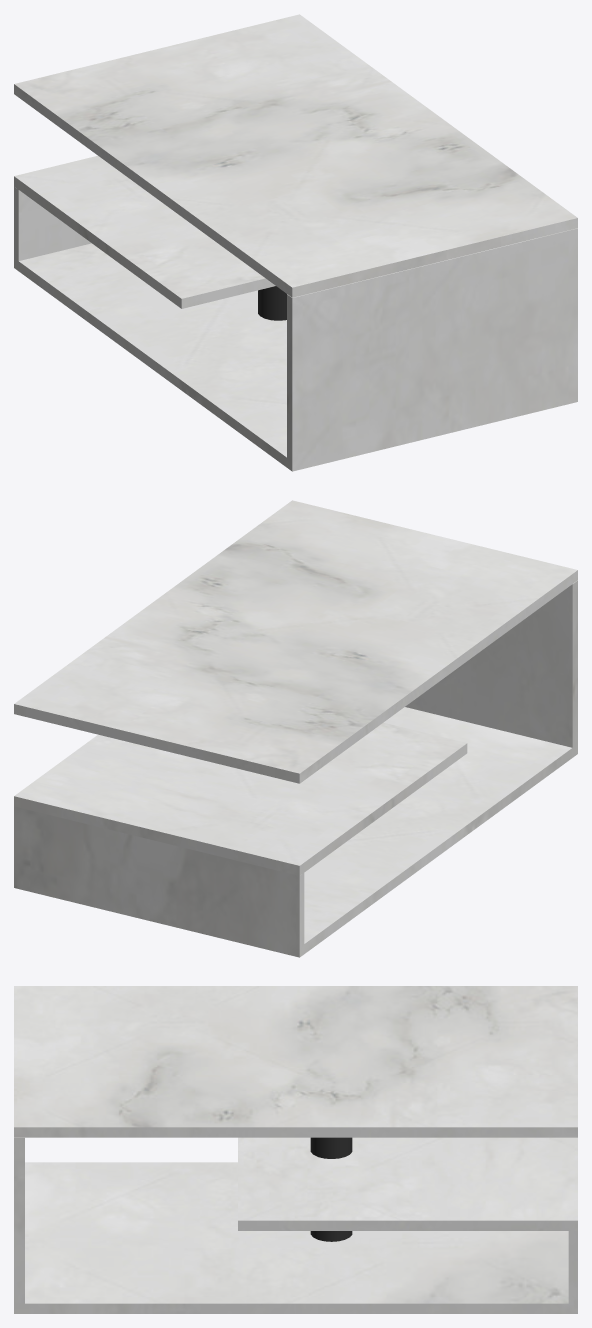
The model's file is Litentable.FBX.
3 renders of one model, top to bottom at view 1: azimuth 30°, elevation 25°; view 2: azimuth 150°, elevation 25°; view 3: azimuth 270°, elevation 25°, orthographic.
Parts seen in each view (by area): view 1: Box057, Box055, Cylinder035; view 2: Box057, Box055; view 3: Box057, Box055, Cylinder035.
Boxes of the visible parts, <box> form: Box057: <box>14,14,577,308</box>; Box055: <box>14,186,577,471</box>; Cylinder035: <box>258,286,286,320</box>; Box057: <box>14,500,577,875</box>; Box055: <box>14,580,577,957</box>; Box057: <box>14,986,577,1230</box>; Box055: <box>14,1137,577,1313</box>; Cylinder035: <box>310,1137,352,1241</box>.
Size of the model in its own units: 1376 by 847 by 2322.
Materials: 2 (1 with a texture image).
